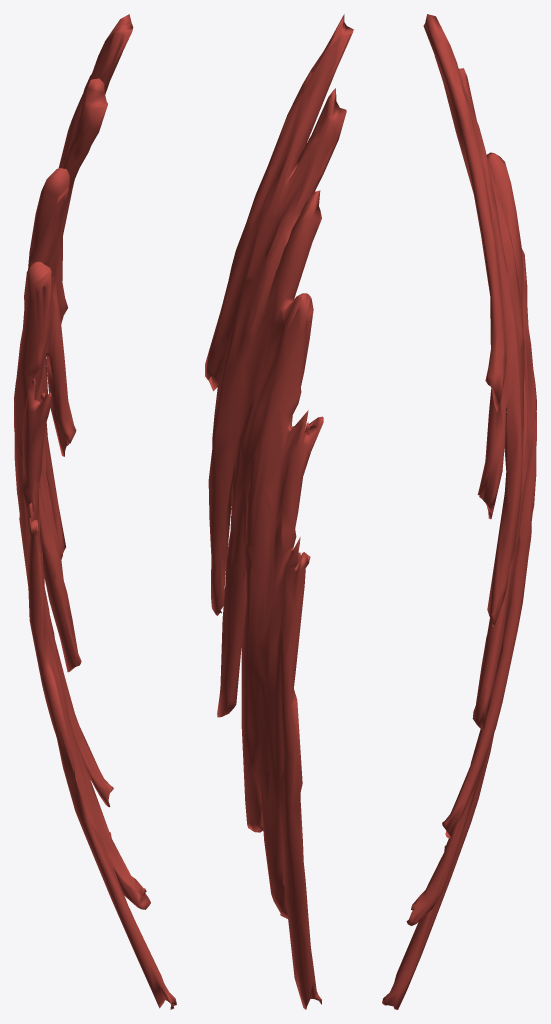
Rendered from musculos-semispinalis-thoracis-muscle-l.glb.
3 renders of one model, left to right at view 1: azimuth 90°, elevation 25°; view 2: azimuth 150°, elevation 25°; view 3: azimuth 270°, elevation 25°, orthographic. The views are drawn at different scales.
Visible parts, largest first — view 1: Semispinalis thoracis muscle.l; view 2: Semispinalis thoracis muscle.l; view 3: Semispinalis thoracis muscle.l.
Part boxes in pixels (x1=…): Semispinalis thoracis muscle.l: x1=14, y1=14, x2=176, y2=1009; Semispinalis thoracis muscle.l: x1=205, y1=14, x2=353, y2=1009; Semispinalis thoracis muscle.l: x1=382, y1=14, x2=536, y2=1009.
Size of the model in its own units: 0.0354 by 0.2809 by 0.0406.
